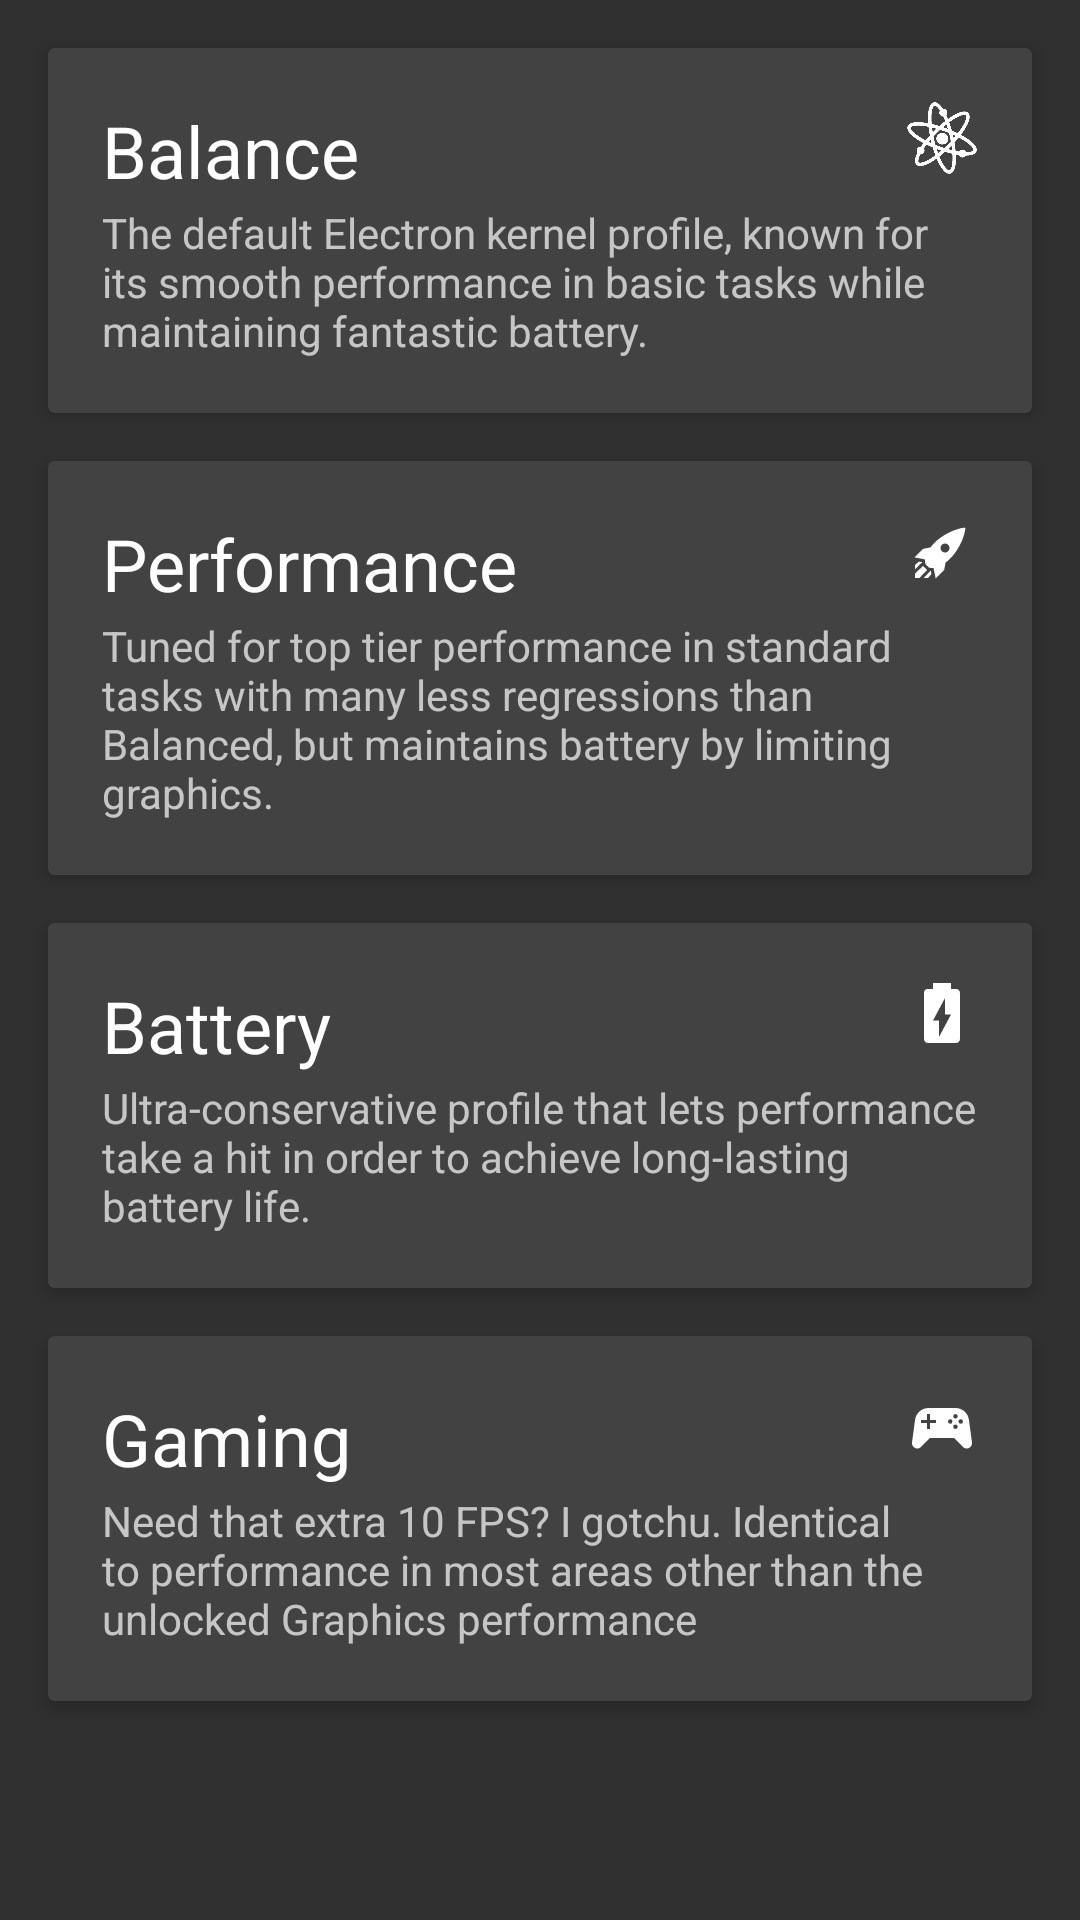

Named icons in this screenshot (1080px x 1920px) and their centers, [x,y]:
atom: [942,138]
game: [942,1428]
rocket: [940,553]
